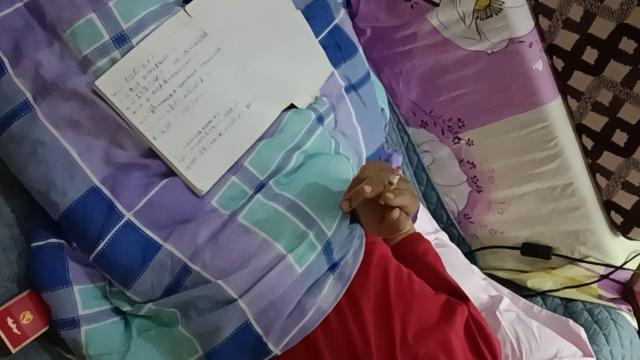Cigarette: (378, 167, 402, 205)
